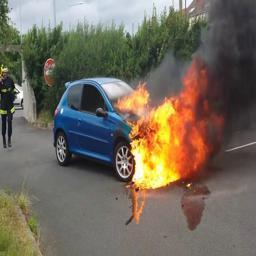fire: (116, 58, 223, 190)
